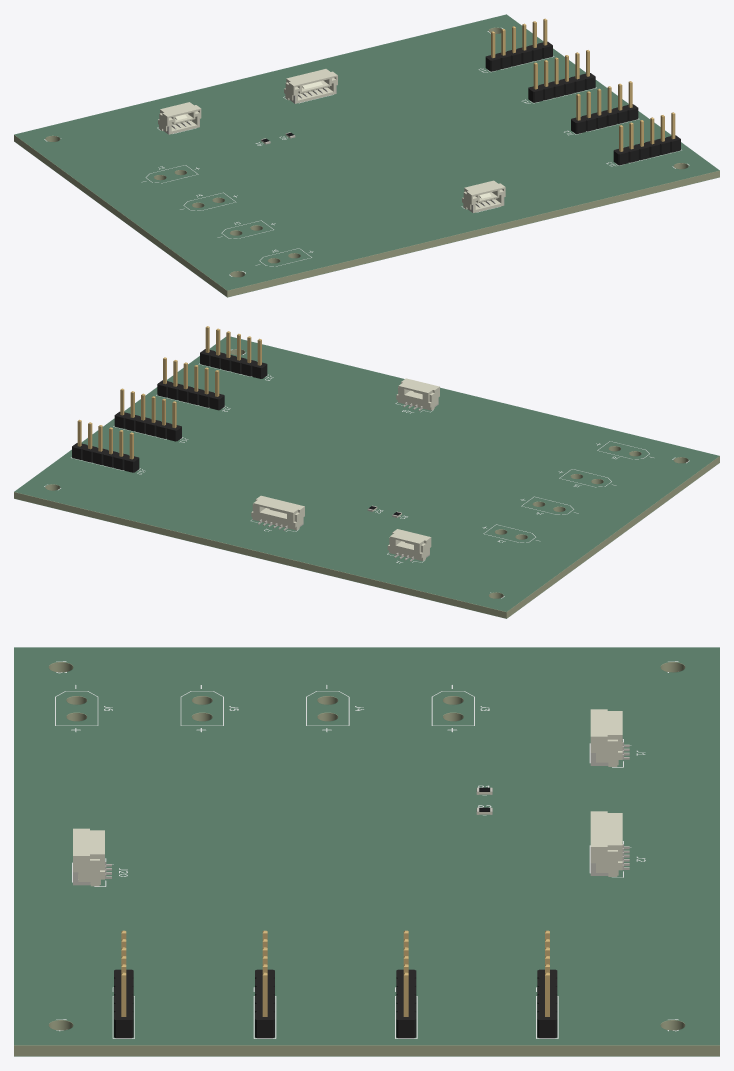
Rendered from backplane.glb.
3 renders of one model, top to bottom at view 1: azimuth 30°, elevation 25°; view 2: azimuth 150°, elevation 25°; view 3: azimuth 270°, elevation 25°, orthographic. The views are drawn at different scales.
Visible parts, largest first — view 1: =>[0:1:1:13], =>[0:1:1:11], =>[0:1:1:5] (×4), =>[0:1:1:3] (×2), =>[0:1:1:9], =>[0:1:1:10], =>[0:1:1:12]; view 2: =>[0:1:1:13], =>[0:1:1:11], =>[0:1:1:5] (×4), =>[0:1:1:3] (×2), =>[0:1:1:9], =>[0:1:1:10], =>[0:1:1:12]; view 3: =>[0:1:1:13], =>[0:1:1:11], =>[0:1:1:5] (×4), =>[0:1:1:3] (×2), =>[0:1:1:9], =>[0:1:1:10], =>[0:1:1:12].
Boxes of the visible parts, <box> form: =>[0:1:1:13]: <box>14,15,719,297</box>; =>[0:1:1:11]: <box>14,14,719,290</box>; =>[0:1:1:5] (×4): <box>485,18,680,165</box>; =>[0:1:1:3] (×2): <box>158,102,505,212</box>; =>[0:1:1:9]: <box>284,69,337,103</box>; =>[0:1:1:10]: <box>44,27,689,276</box>; =>[0:1:1:12]: <box>14,141,719,297</box>; =>[0:1:1:13]: <box>14,337,719,618</box>; =>[0:1:1:11]: <box>14,336,719,611</box>; =>[0:1:1:5] (×4): <box>72,326,267,472</box>; =>[0:1:1:3] (×2): <box>387,378,439,561</box>; =>[0:1:1:9]: <box>251,495,304,530</box>; =>[0:1:1:10]: <box>44,349,689,598</box>; =>[0:1:1:12]: <box>14,463,718,618</box>; =>[0:1:1:13]: <box>14,648,719,1056</box>; =>[0:1:1:11]: <box>14,647,719,1045</box>; =>[0:1:1:5] (×4): <box>114,930,557,1038</box>; =>[0:1:1:3] (×2): <box>73,709,629,886</box>; =>[0:1:1:9]: <box>590,811,629,876</box>; =>[0:1:1:10]: <box>55,661,678,1038</box>; =>[0:1:1:12]: <box>14,1056,719,1056</box>.
Bounding box in the file's own units: 0.12 × 0.0115 × 0.09.
